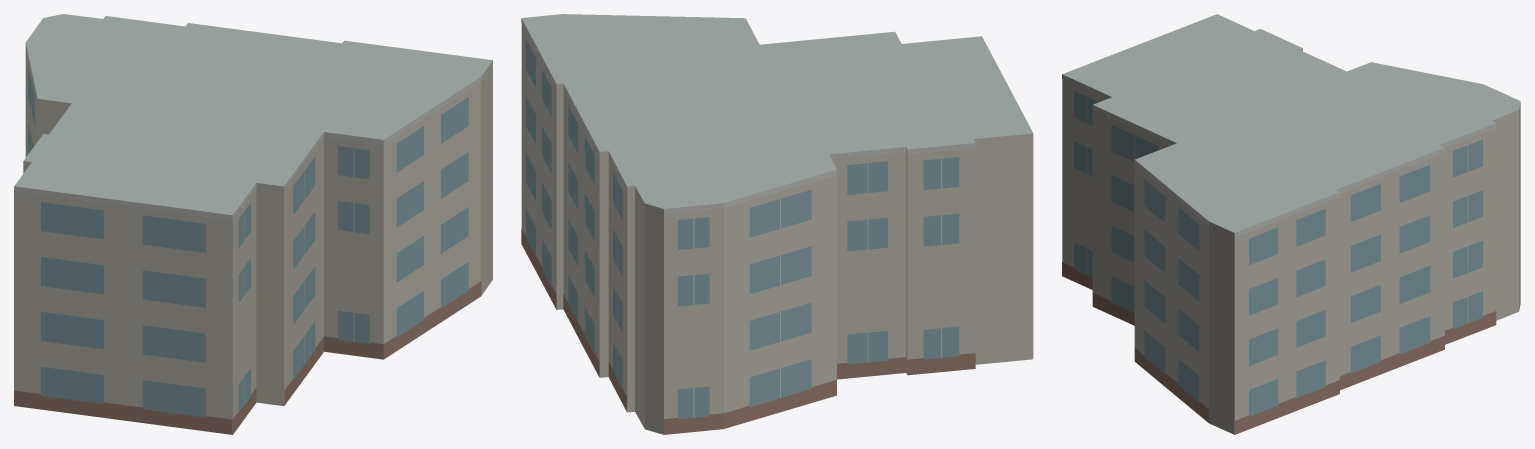
File: survey-upis-32777611.glb
3 renders of one model, left to right at view 1: azimuth 30°, elevation 25°; view 2: azimuth 150°, elevation 25°; view 3: azimuth 270°, elevation 25°, orthographic. The views are drawn at different scales.
Visible parts, largest first — view 1: survey-upis-32777611.tmp; view 2: survey-upis-32777611.tmp; view 3: survey-upis-32777611.tmp.
Part boxes in pixels (left/top/right/bottom): survey-upis-32777611.tmp: left=14, top=14, right=492, bottom=434; survey-upis-32777611.tmp: left=521, top=14, right=1033, bottom=434; survey-upis-32777611.tmp: left=1062, top=14, right=1520, bottom=434.
Bounding box in the file's own units: 25.13 × 10.8 × 22.24.
